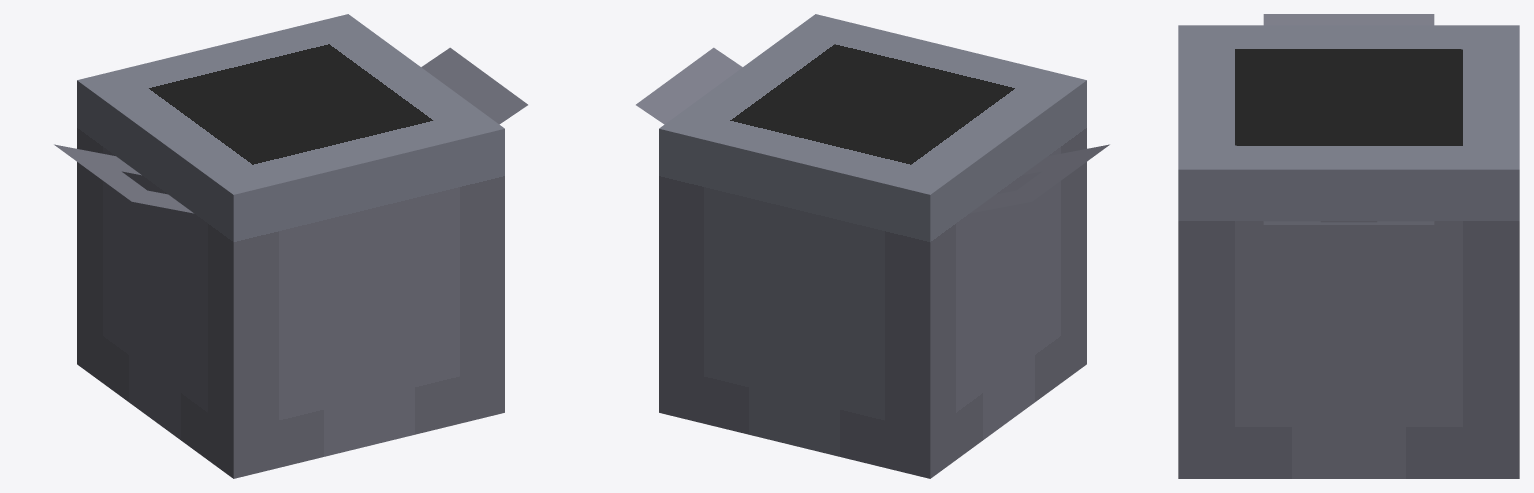
File: boiling_pot.glb
3 renders of one model, left to right at view 1: azimuth 30°, elevation 25°; view 2: azimuth 150°, elevation 25°; view 3: azimuth 270°, elevation 25°, orthographic. The views are drawn at different scales.
Visible parts, largest first — view 1: cube; view 2: cube; view 3: cube.
Part boxes in pixels (x1,y1,x2,y2): cube: [54, 14, 527, 478]; cube: [636, 14, 1109, 478]; cube: [1178, 14, 1519, 478].
Size of the model in its own units: 1.1 by 0.75 by 0.75.
1 material, 1 textured.
